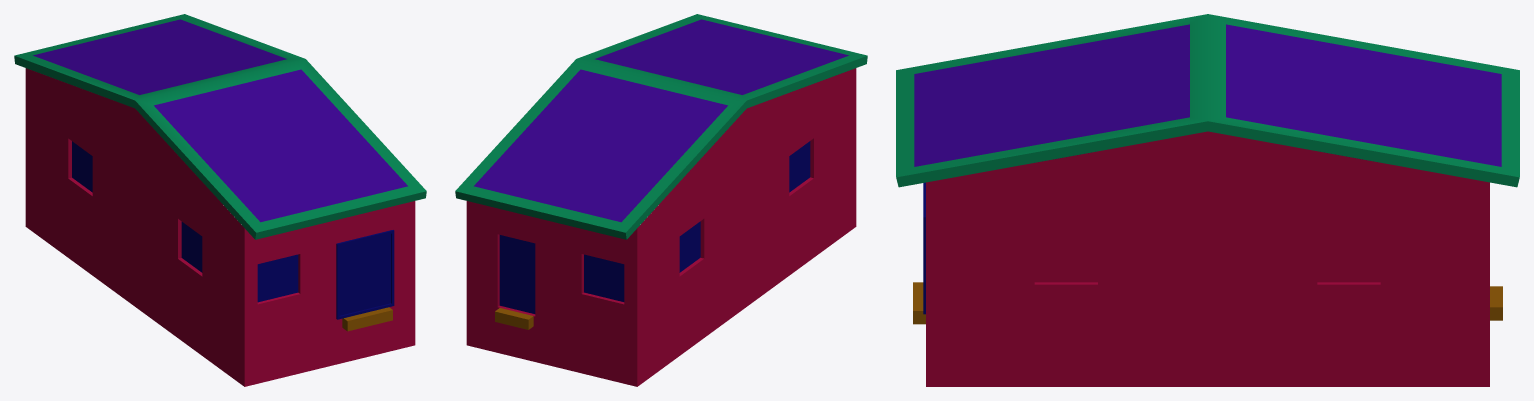
The model's file is old_build_02.FBX.
3 views of the same model, side by side, from view 1: azimuth 30°, elevation 25°; view 2: azimuth 150°, elevation 25°; view 3: azimuth 270°, elevation 25° (orthographic). The views are drawn at different scales.
Parts seen in each view (by area): view 1: old_build_01; view 2: old_build_01; view 3: old_build_01.
Part boxes in pixels (<box>): old_build_01: <box>14,14,426,386</box>; old_build_01: <box>455,14,867,386</box>; old_build_01: <box>896,14,1519,386</box>.
Size of the model in its own units: 4.5 by 11.06 by 5.2.
